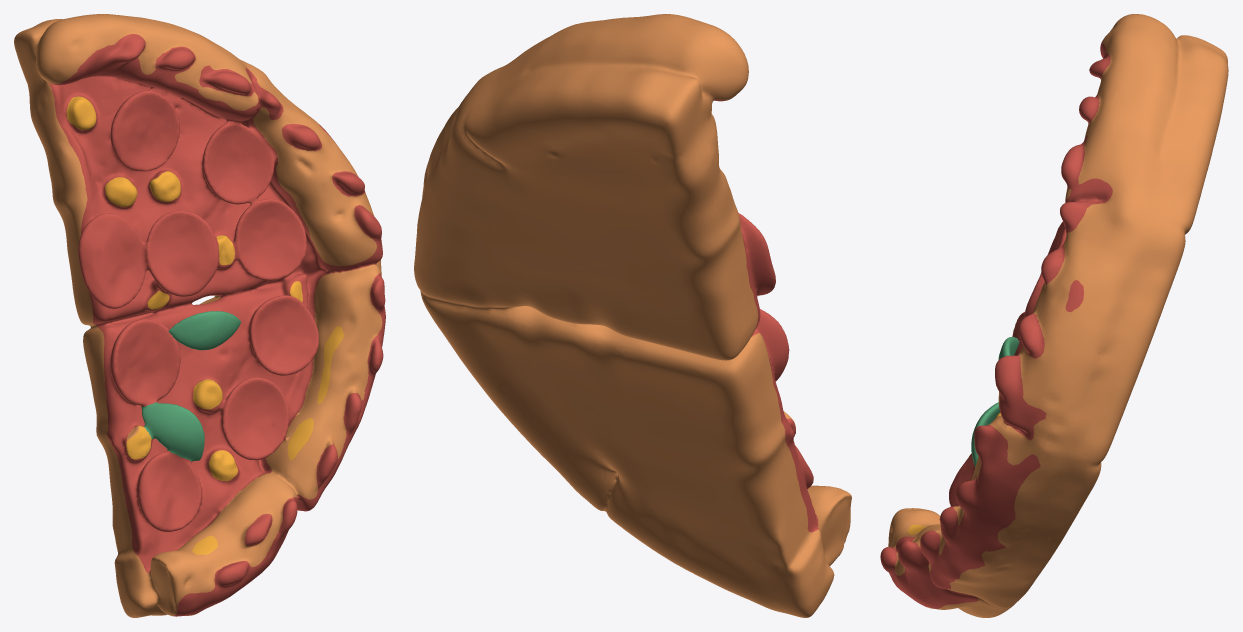
Rendered from Stack 2c - Pizza.glb.
3 views of the same model, side by side, from view 1: azimuth 30°, elevation 25°; view 2: azimuth 150°, elevation 25°; view 3: azimuth 270°, elevation 25° (orthographic). The views are drawn at different scales.
Parts seen in each view (by area): view 1: Stack 2c - Pizza · mesh; view 2: Stack 2c - Pizza · mesh; view 3: Stack 2c - Pizza · mesh.
Boxes of the visible parts, bbox=[...] form: Stack 2c - Pizza · mesh: bbox=[14, 14, 385, 617]; Stack 2c - Pizza · mesh: bbox=[414, 14, 851, 617]; Stack 2c - Pizza · mesh: bbox=[880, 14, 1228, 617].
Size of the model in its own units: 0.583 by 1 by 0.543.
